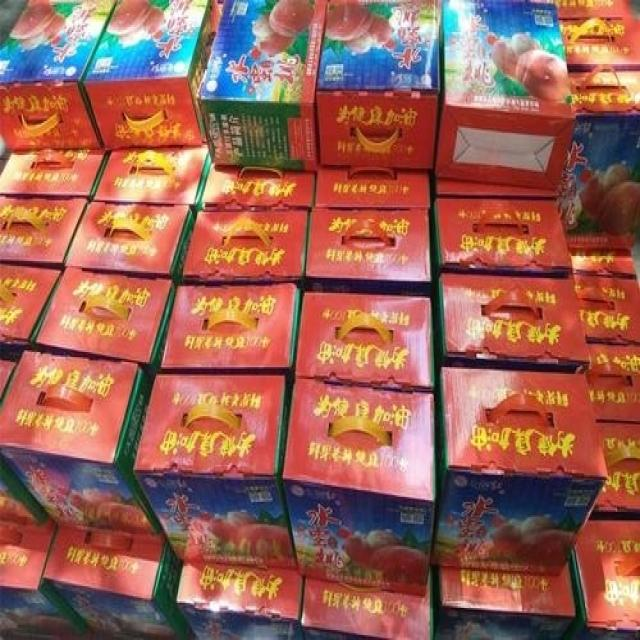box: (432, 367, 608, 577), (283, 377, 435, 597), (133, 375, 297, 570), (0, 350, 162, 535), (435, 2, 574, 190), (197, 0, 327, 173), (315, 0, 440, 168), (83, 0, 221, 150), (0, 0, 119, 152), (42, 528, 194, 638), (36, 267, 176, 377), (439, 274, 589, 373), (556, 72, 639, 248), (295, 292, 434, 390), (161, 284, 300, 368), (64, 203, 195, 287), (0, 517, 87, 638), (436, 198, 572, 270), (175, 565, 302, 638), (300, 568, 431, 638), (306, 209, 431, 280), (93, 143, 211, 217), (181, 210, 308, 277), (572, 521, 639, 628), (440, 563, 576, 615), (0, 195, 90, 267), (0, 149, 111, 197), (0, 264, 63, 348), (572, 271, 639, 344), (201, 166, 314, 209), (315, 166, 430, 208), (580, 343, 639, 420), (559, 19, 639, 72), (593, 423, 639, 511), (0, 458, 48, 526), (435, 177, 557, 196), (569, 248, 637, 277)
